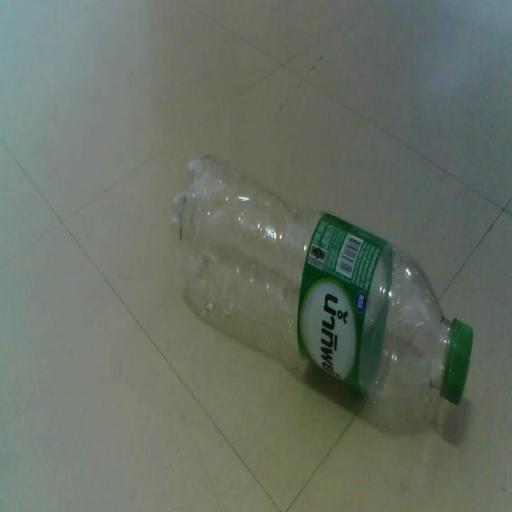bottle: (147, 140, 479, 452)
